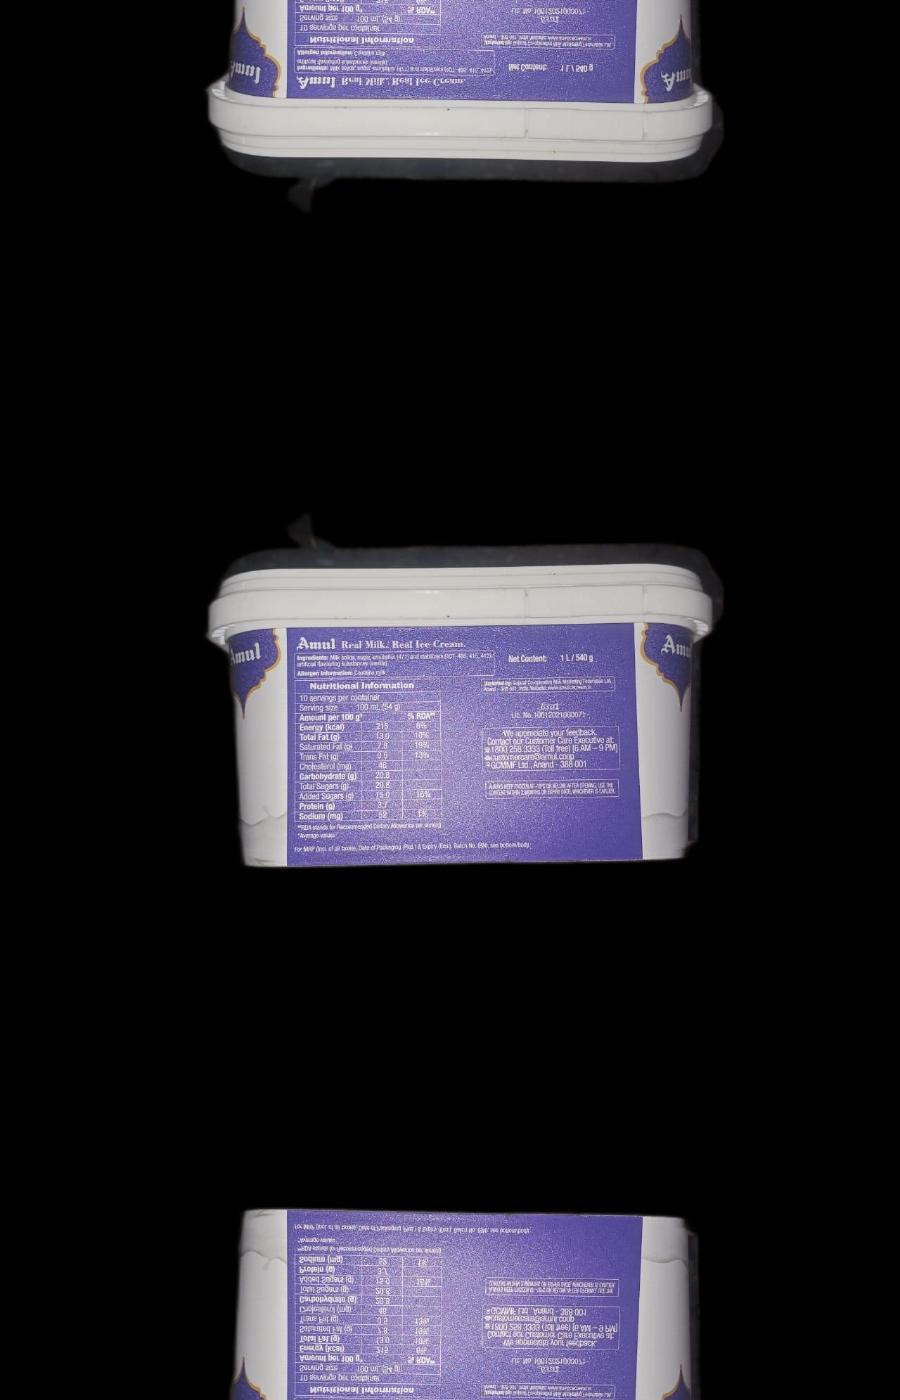Amul Ice Cream - Vanilla Magic 1 L Tub: (194, 534, 728, 866), (194, 1207, 728, 1400), (194, 0, 728, 190)
